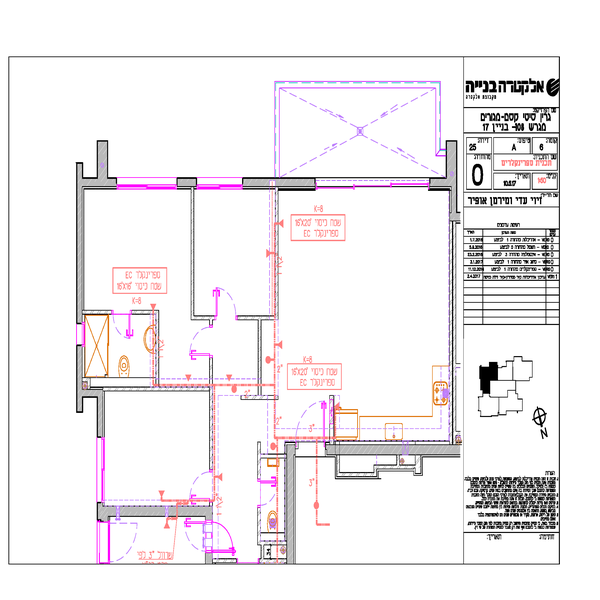door: (94, 517, 139, 562), (202, 517, 242, 558), (181, 469, 225, 504), (297, 397, 327, 448), (183, 323, 220, 357), (109, 309, 139, 342), (211, 286, 238, 321), (255, 481, 284, 507)
room: (271, 175, 466, 462), (77, 172, 280, 317), (76, 304, 266, 396), (98, 394, 219, 520), (206, 398, 297, 562)
wall: (97, 501, 213, 521), (324, 444, 463, 455), (287, 443, 297, 564), (75, 161, 82, 323), (244, 175, 317, 189), (189, 187, 195, 322), (74, 345, 85, 412), (274, 190, 279, 321), (257, 320, 265, 395), (95, 137, 109, 178), (97, 388, 106, 440), (447, 144, 457, 188), (81, 174, 111, 187), (177, 175, 197, 189)
window: (324, 176, 434, 188), (199, 173, 247, 194), (96, 436, 107, 501), (118, 181, 181, 192)
